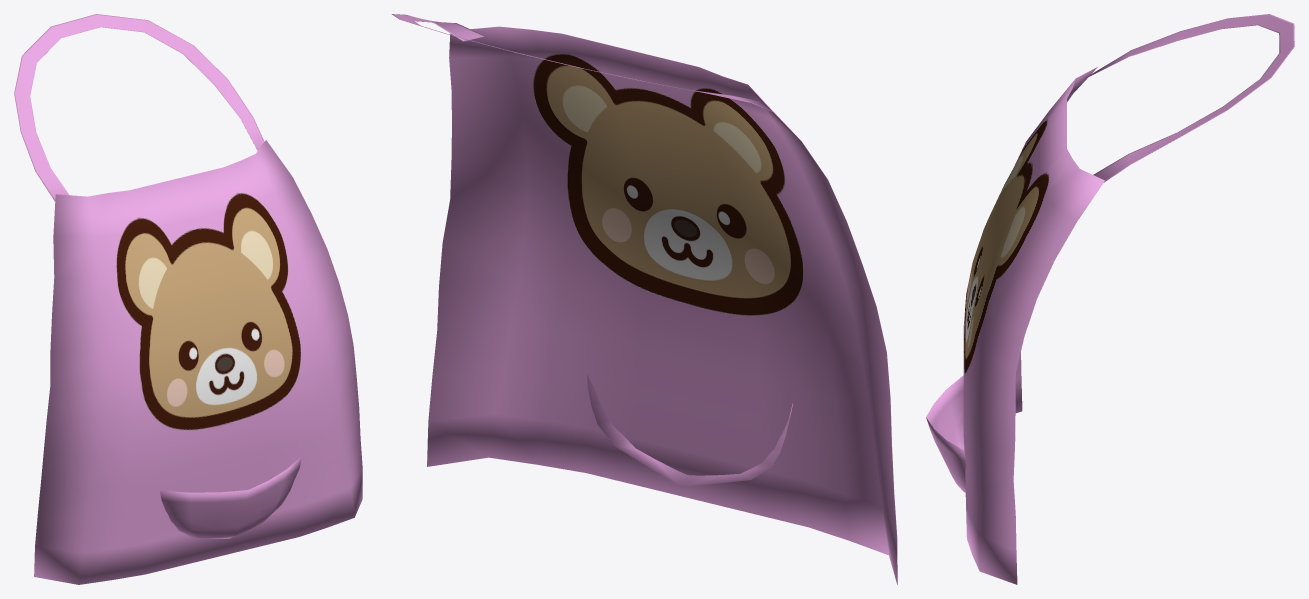
File: Apron.fbx
3 views of the same model, side by side, from view 1: azimuth 30°, elevation 25°; view 2: azimuth 150°, elevation 25°; view 3: azimuth 270°, elevation 25° (orthographic). The views are drawn at different scales.
Visible parts, largest first — view 1: Apron, Apron1, Plane; view 2: Apron, Plane, Apron1; view 3: Apron, Apron1, Plane.
Part boxes in pixels (x1,y1,x2,y2): Apron: (34, 140, 362, 584); Apron1: (14, 14, 264, 201); Plane: (159, 456, 301, 538); Apron: (427, 26, 897, 584); Plane: (587, 374, 792, 487); Apron1: (391, 14, 772, 111); Apron: (963, 67, 1104, 584); Apron1: (1084, 14, 1294, 182); Plane: (926, 375, 965, 492).
Bounding box in the file's own units: 0.7502 × 0.935 × 0.6732.
2 materials, 1 textured.
